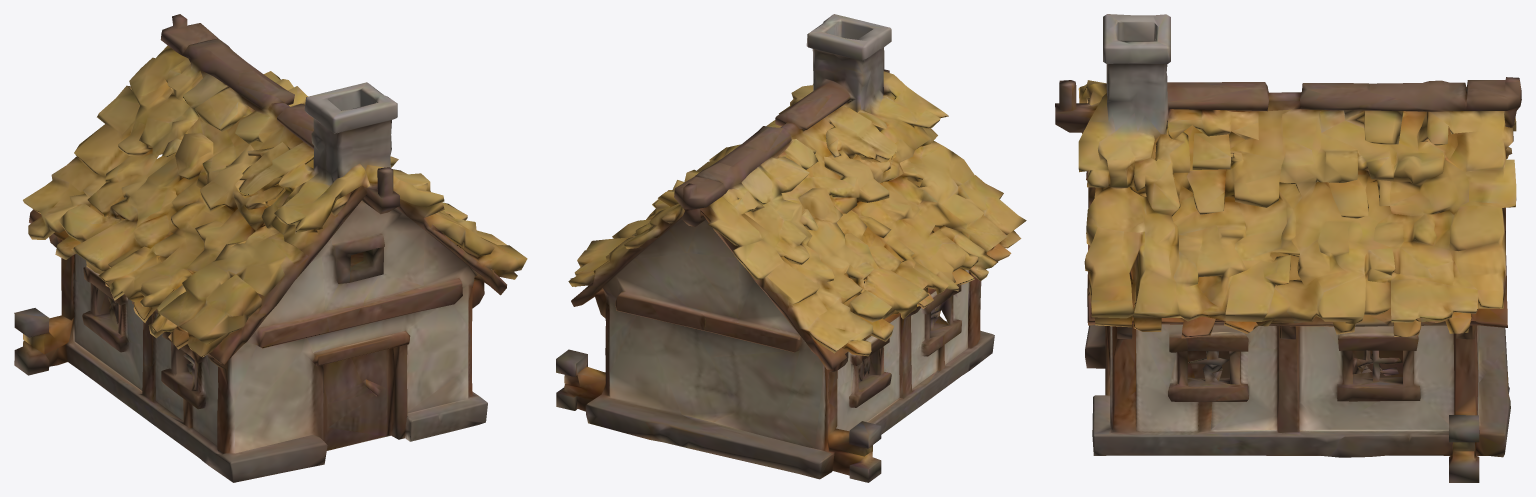
The model's file is cottage.glb.
3 views of the same model, side by side, from view 1: azimuth 30°, elevation 25°; view 2: azimuth 150°, elevation 25°; view 3: azimuth 270°, elevation 25° (orthographic). The views are drawn at different scales.
Visible parts, largest first — view 1: CottageBody; view 2: CottageBody; view 3: CottageBody.
Boxes of the visible parts, <box> form: CottageBody: <box>14,14,527,482</box>; CottageBody: <box>556,14,1026,482</box>; CottageBody: <box>1055,14,1521,482</box>.
Bounding box in the file's own units: 4.62 × 4.33 × 5.
1 material, 1 textured.
